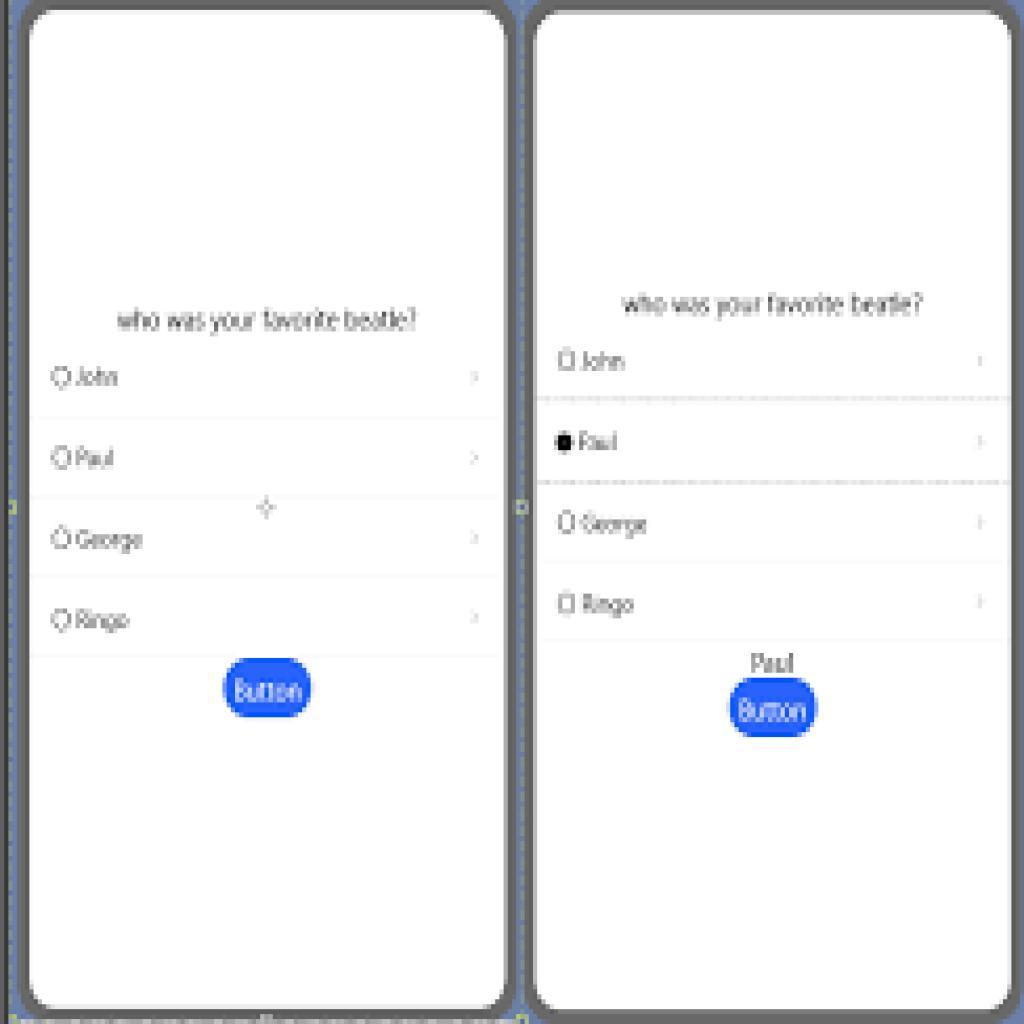button: (225, 656, 312, 720), (731, 679, 819, 739)
radio: (553, 428, 577, 458), (50, 444, 73, 472), (50, 608, 73, 636), (52, 523, 74, 551), (51, 365, 73, 391), (560, 509, 578, 539), (560, 348, 579, 374), (558, 591, 577, 616)
